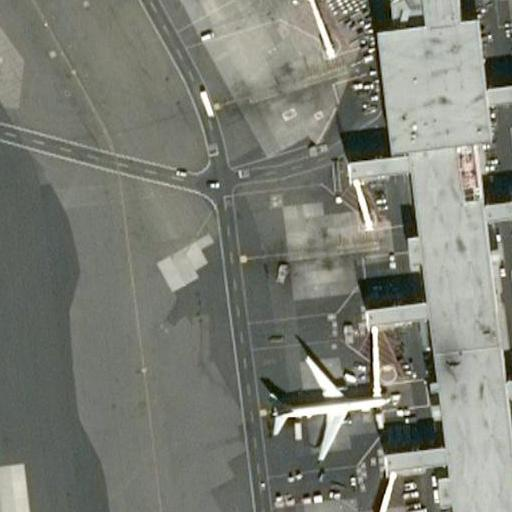Aircraft: (263, 343, 391, 459)
